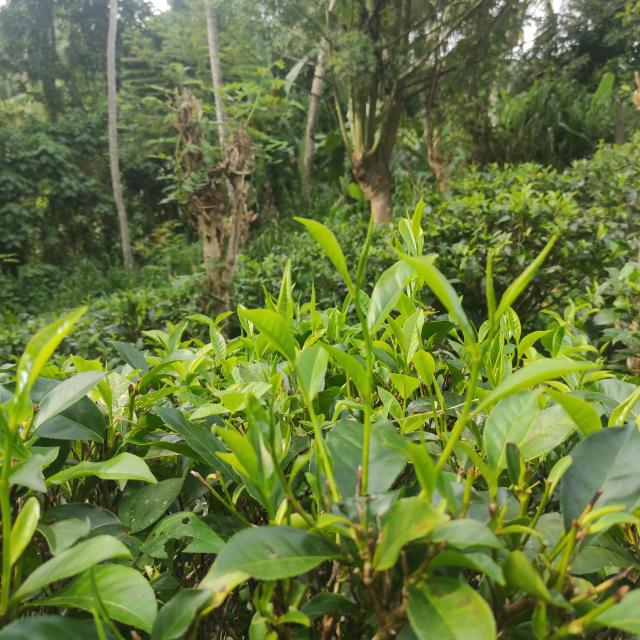unopened_leaf: (346, 204, 384, 300), (478, 249, 506, 336), (154, 330, 175, 354)
